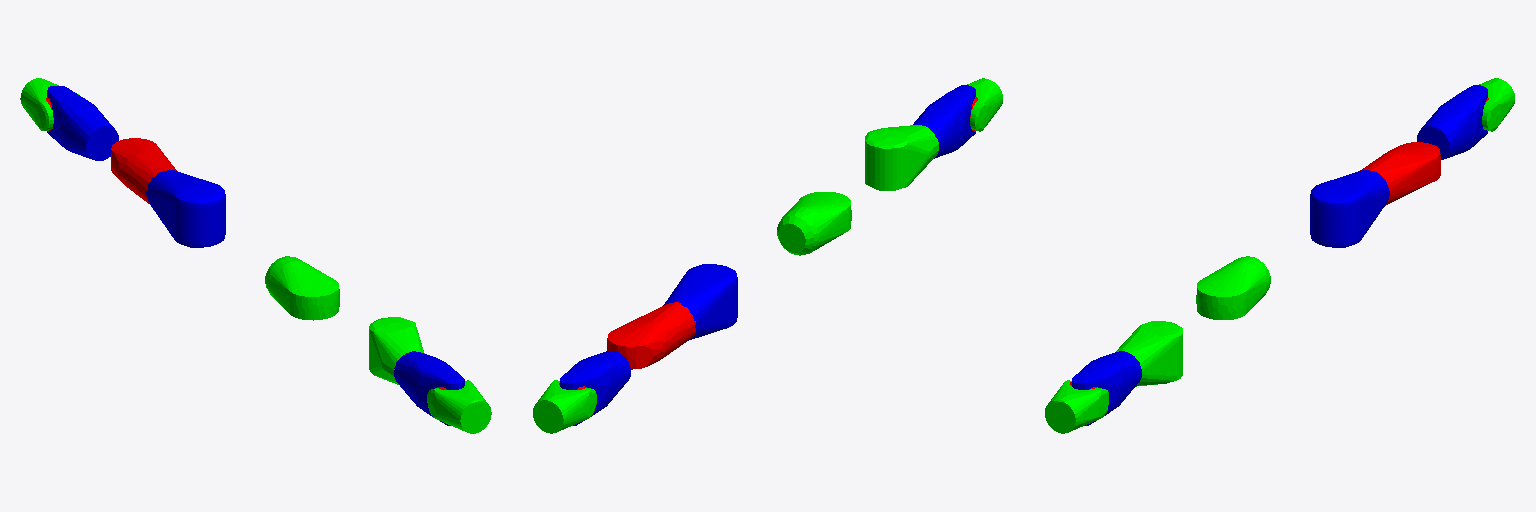
robot.urdf — nimo_arms:
<?xml version="1.0" encoding="utf-8"?>
<!-- Adapted from tj_control Marvin_M3S_CCS_615 dual-arm URDF (M3-S-CCS-615 on M6 stand). -->
<!-- TCP_Link_L/R kept for IK; meshes vendored under nimo_arm_description/meshes. -->
<robot name="nimo_arms">
  <link name="base_footprint"/>
  <joint name="base_footprint_joint" type="fixed">
    <parent link="base_footprint"/>
    <child link="Link_Base"/>
    <origin xyz="0 0 0" rpy="0 0 0"/>
  </joint>
  <link name="Link_Base">
    <inertial>
      <origin xyz="0 1.33E-06 0.1597" rpy="0 0 0" />
      <mass value="74.515" />
      <inertia ixx="8.67491803" ixy="0.07182226" ixz="0" iyy="8.67495749" iyz="0.00008096" izz="4.32871357" />
    </inertial>
    <visual>
      <origin xyz="0 0 0" rpy="0 0 0" />
      <geometry>
        <mesh filename="package://nimo_arm_description/meshes/Link_Base.STL" />
      </geometry>
      <material name="">
        <color rgba="0 1 0 1" />
      </material>
    </visual>
    <collision>
      <origin xyz="0 0 0" rpy="0 0 0" />
      <geometry>
        <mesh filename="package://nimo_arm_description/meshes/Link_Base.STL" />
      </geometry>
    </collision>
  </link>
  <link name="Link_Stand">
    <inertial>
      <origin xyz="1.321E-05 -4.225E-05 0.06485" rpy="0 0 0" />
      <mass value="3.52" />
      <inertia ixx="0.01763033" ixy="-0.00000075" ixz="0.00000045" iyy="0.02001856" iyz="7.41E-06" izz="0.01060882" />
    </inertial>
    <visual>
      <origin xyz="0 0 0" rpy="0 0 0" />
      <geometry>
        <mesh filename="package://nimo_arm_description/meshes/Link_Stand.STL" />
      </geometry>
      <material name="">
        <color rgba="0 0 1 1" />
      </material>
    </visual>
    <collision>
      <origin xyz="0 0 0" rpy="0 0 0" />
      <geometry>
        <mesh filename="package://nimo_arm_description/meshes/Link_Stand.STL" />
      </geometry>
    </collision>
  </link>
  <joint name="Joint_Stand" type="fixed">
    <origin xyz="0 0 0.981" rpy="0 0 0" />
    <parent link="Link_Base" />
    <child link="Link_Stand" />
    <axis xyz="0 0 0" />
  </joint>
  <joint name="Joint0_L" type="fixed">
    <origin xyz="0 0.037 0.140" rpy="-1.5707963267948966 0 0" />
    <parent link="Link_Stand" />
    <child link="Base_L" />
    <axis xyz="0 0 0" />
  </joint>
  <link name="Base_L">
    <inertial>
      <origin xyz="0.00026267 0.00011932 0.03306285" rpy="0 0 0" />
      <mass value="1.03862143" />
      <inertia ixx="0.00071755" ixy="0.00000006" ixz="-0.00000688" iyy="0.00071148" iyz="-0.00000335" izz="0.00091518" />
    </inertial>
    <visual>
      <origin xyz="0 0 0" rpy="0 0 0" />
      <geometry>
        <mesh filename="package://nimo_arm_description/meshes/Base_L.STL" />
      </geometry>
      <material name="">
        <color rgba="1 0 0 1" />
      </material>
    </visual>
    <collision>
      <origin xyz="0 0 0" rpy="0 0 0" />
      <geometry>
        <mesh filename="package://nimo_arm_description/meshes/Base_L.STL" />
      </geometry>
    </collision>
  </link>
  <link name="Link1_L">
    <inertial>
      <origin xyz="0.00005324 0.00445236 -0.03913569" rpy="0 0 0" />
      <mass value="1.77724008" />
      <inertia ixx="0.00530846" ixy="0.00000240" ixz="-0.00000211" iyy="0.00555862" iyz="0.00029899" izz="0.00133520" />
    </inertial>
    <visual>
      <origin xyz="0 0 0" rpy="0 0 0" />
      <geometry>
        <mesh filename="package://nimo_arm_description/meshes/Link1_L.STL" />
      </geometry>
      <material name="">
        <color rgba="0 1 0 1" />
      </material>
    </visual>
    <collision>
      <origin xyz="0 0 0" rpy="0 0 0" />
      <geometry>
        <mesh filename="package://nimo_arm_description/meshes/collision/Link1_L.STL" />
      </geometry>
    </collision>
  </link>
  <joint name="Joint1_L" type="revolute">
    <origin xyz="0 0 0.177" rpy="0 0 0" />
    <parent link="Base_L" />
    <child link="Link1_L" />
    <axis xyz="0 0 1" />
    <limit lower="-3.106686068549907" upper="3.106686068549907" effort="66" velocity="3.141592653589793" />
  </joint>
  <link name="Link2_L">
    <inertial>
      <origin xyz="-0.00010498 0.05321718 0.00787641" rpy="0 0 0" />
      <mass value="1.60894018" />
      <inertia ixx="0.00632572" ixy="-0.00000592" ixz="0.00000084" iyy="0.00182184" iyz="-0.00069610" izz="0.00594120" />
    </inertial>
    <visual>
      <origin xyz="0 0 0" rpy="0 0 0" />
      <geometry>
        <mesh filename="package://nimo_arm_description/meshes/Link2_L.STL" />
      </geometry>
      <material name="">
        <color rgba="0 0 1 1" />
      </material>
    </visual>
    <collision>
      <origin xyz="0 0 0" rpy="0 0 0" />
      <geometry>
        <mesh filename="package://nimo_arm_description/meshes/collision/Link2_L.STL" />
      </geometry>
    </collision>
  </link>
  <joint name="Joint2_L" type="revolute">
    <origin xyz="0 0 0" rpy="1.5707963267948966 0 0" />
    <parent link="Link1_L" />
    <child link="Link2_L" />
    <axis xyz="0 0 1" />
    <limit lower="-2.0943951023931953" upper="2.0943951023931953" effort="66" velocity="3.141592653589793" />
  </joint>
  <link name="Link3_L">
    <inertial>
      <origin xyz="0.00810489 0.00245578 -0.05500367" rpy="0 0 0" />
      <mass value="1.27082930" />
      <inertia ixx="0.00491773" ixy="0.00003519" ixz="0.00058367" iyy="0.00519354" iyz="0.00017843" izz="0.00102662" />
    </inertial>
    <visual>
      <origin xyz="0 0 0" rpy="0 0 0" />
      <geometry>
        <mesh filename="package://nimo_arm_description/meshes/Link3_L.STL" />
      </geometry>
      <material name="">
        <color rgba="1 0 0 1" />
      </material>
    </visual>
    <collision>
      <origin xyz="0 0 0" rpy="0 0 0" />
      <geometry>
        <mesh filename="package://nimo_arm_description/meshes/collision/Link3_L.STL" />
      </geometry>
    </collision>
  </link>
  <joint name="Joint3_L" type="revolute">
    <origin xyz="0 0.272 0" rpy="-1.5707963267948966 0 0" />
    <parent link="Link2_L" />
    <child link="Link3_L" />
    <axis xyz="0 0 1" />
    <limit lower="-3.106686068549907" upper="3.106686068549907" effort="18" velocity="3.141592653589793" />
  </joint>
  <link name="Link4_L">
    <inertial>
      <origin xyz="0.00709286 -0.03304509 0.00893402" rpy="0 0 0" />
      <mass value="0.96124622" />
      <inertia ixx="0.00254980" ixy="-0.00032269" ixz="-0.00006345" iyy="0.00107965" iyz="0.00029545" izz="0.00235605" />
    </inertial>
    <visual>
      <origin xyz="0 0 0" rpy="0 0 0" />
      <geometry>
        <mesh filename="package://nimo_arm_description/meshes/Link4_L.STL" />
      </geometry>
      <material name="">
        <color rgba="0 1 0 1" />
      </material>
    </visual>
    <collision>
      <origin xyz="0 0 0" rpy="0 0 0" />
      <geometry>
        <mesh filename="package://nimo_arm_description/meshes/collision/Link4_L.STL" />
      </geometry>
    </collision>
  </link>
  <joint name="Joint4_L" type="revolute">
    <origin xyz="0.018 0 0" rpy="-1.5707963267948966 0 3.141592653589793" />
    <parent link="Link3_L" />
    <child link="Link4_L" />
    <axis xyz="0 0 1" />
    <limit lower="-2.5307274153917776" upper="1.0471975511965976" effort="18" velocity="3.141592653589793" />
  </joint>
  <link name="Link5_L">
    <inertial>
      <origin xyz="-0.00062313 0.00098400 -0.09276174" rpy="0 0 0" />
      <mass value="0.90217469" />
      <inertia ixx="0.00189248" ixy="-0.00001906" ixz="-0.00002190" iyy="0.00174389" iyz="-0.00000835" izz="0.00075080" />
    </inertial>
    <visual>
      <origin xyz="0 0 0" rpy="0 0 0" />
      <geometry>
        <mesh filename="package://nimo_arm_description/meshes/Link5_L.STL" />
      </geometry>
      <material name="">
        <color rgba="0 0 1 1" />
      </material>
    </visual>
    <collision>
      <origin xyz="0 0 0" rpy="0 0 0" />
      <geometry>
        <mesh filename="package://nimo_arm_description/meshes/collision/Link5_L.STL" />
      </geometry>
    </collision>
  </link>
  <joint name="Joint5_L" type="revolute">
    <origin xyz="0.018 -0.256 0" rpy="-1.5707963267948966 0 3.141592653589793" />
    <parent link="Link4_L" />
    <child link="Link5_L" />
    <axis xyz="0 0 1" />
    <limit lower="-3.106686068549907" upper="3.106686068549907" effort="6.5" velocity="3.141592653589793" />
  </joint>
  <link name="Link6_L">
    <inertial>
      <origin xyz="0.00031369 0.00024238 -0.00041391" rpy="0 0 0" />
      <mass value="0.33261055" />
      <inertia ixx="0.00015388" ixy="0.00000140" ixz="-0.00000029" iyy="0.00015258" iyz="-0.00000262" izz="0.00013812" />
    </inertial>
    <visual>
      <origin xyz="0 0 0" rpy="0 0 0" />
      <geometry>
        <mesh filename="package://nimo_arm_description/meshes/Link6_L.STL" />
      </geometry>
      <material name="">
        <color rgba="1 0 0 1" />
      </material>
    </visual>
    <collision>
      <origin xyz="0 0 0" rpy="0 0 0" />
      <geometry>
        <mesh filename="package://nimo_arm_description/meshes/collision/Link6_L.STL" />
      </geometry>
    </collision>
  </link>
  <joint name="Joint6_L" type="revolute">
    <origin xyz="0 0 0" rpy="1.5707963267948966 -1.5707963267948966 0" />
    <parent link="Link5_L" />
    <child link="Link6_L" />
    <axis xyz="0 0 1" />
    <limit lower="-1.0471975511965976" upper="1.0471975511965976" effort="6.5" velocity="3.141592653589793" />
  </joint>
  <link name="Link7_L">
    <inertial>
      <origin xyz="-0.00006959 -0.03969936 0.00413997" rpy="0 0 0" />
      <mass value="0.30535389" />
      <inertia ixx="0.00058153" ixy="-0.00000009" ixz="-0.00000084" iyy="0.00026536" iyz="0.00005594" izz="0.00048333" />
    </inertial>
    <visual>
      <origin xyz="0 0 0" rpy="0 0 0" />
      <geometry>
        <mesh filename="package://nimo_arm_description/meshes/Link7_L.STL" />
      </geometry>
      <material name="">
        <color rgba="0 1 0 1" />
      </material>
    </visual>
    <collision>
      <origin xyz="0 0 0" rpy="0 0 0" />
      <geometry>
        <mesh filename="package://nimo_arm_description/meshes/collision/Link7_L.STL" />
      </geometry>
    </collision>
  </link>
  <joint name="Joint7_L" type="revolute">
    <origin xyz="0 0 0" rpy="1.5707963267948966 -1.5707963267948966 0" />
    <parent link="Link6_L" />
    <child link="Link7_L" />
    <axis xyz="0 0 1" />
    <limit lower="-1.5707963267948966" upper="1.5707963267948966" effort="6.5" velocity="3.141592653589793" />
  </joint>
  <link name="TCP_Link_L">
    <inertial>
      <origin xyz="0 0 0" rpy="0 0 0" />
      <mass value="0" />
      <inertia ixx="0" ixy="0" ixz="0" iyy="0" iyz="0" izz="0" />
    </inertial>
  </link>
  <joint name="JointTCP_L" type="fixed">
    <origin xyz="0 -0.087 0" rpy="1.5707963267948966 -1.5707963267948966 0" />
    <parent link="Link7_L" />
    <child link="TCP_Link_L" />
    <axis xyz="0 0 0" />
  </joint>
  <joint name="Joint0_R" type="fixed">
    <origin xyz="0 -0.037 0.140" rpy="1.5707963267948966 0 0" />
    <parent link="Link_Stand" />
    <child link="Base_R" />
    <axis xyz="0 0 0" />
  </joint>
  <link name="Base_R">
    <inertial>
      <origin xyz="0.00026267 0.00011932 0.03306285" rpy="0 0 0" />
      <mass value="1.03862143" />
      <inertia ixx="0.00071755" ixy="0.00000006" ixz="-0.00000688" iyy="0.00071148" iyz="-0.00000335" izz="0.00091518" />
    </inertial>
    <visual>
      <origin xyz="0 0 0" rpy="0 0 0" />
      <geometry>
        <mesh filename="package://nimo_arm_description/meshes/Base_R.STL" />
      </geometry>
      <material name="">
        <color rgba="1 0 0 1" />
      </material>
    </visual>
    <collision>
      <origin xyz="0 0 0" rpy="0 0 0" />
      <geometry>
        <mesh filename="package://nimo_arm_description/meshes/Base_R.STL" />
      </geometry>
    </collision>
  </link>
  <link name="Link1_R">
    <inertial>
      <origin xyz="0.00005324 0.00445236 -0.03913569" rpy="0 0 0" />
      <mass value="1.77724008" />
      <inertia ixx="0.00530846" ixy="0.00000240" ixz="-0.00000211" iyy="0.00555862" iyz="0.00029899" izz="0.00133520" />
    </inertial>
    <visual>
      <origin xyz="0 0 0" rpy="0 0 0" />
      <geometry>
        <mesh filename="package://nimo_arm_description/meshes/Link1_R.STL" />
      </geometry>
      <material name="">
        <color rgba="0 1 0 1" />
      </material>
    </visual>
    <collision>
      <origin xyz="0 0 0" rpy="0 0 0" />
      <geometry>
        <mesh filename="package://nimo_arm_description/meshes/collision/Link1_R.STL" />
      </geometry>
    </collision>
  </link>
  <joint name="Joint1_R" type="revolute">
    <origin xyz="0 0 0.177" rpy="0 0 0" />
    <parent link="Base_R" />
    <child link="Link1_R" />
    <axis xyz="0 0 1" />
    <limit lower="-3.106686068549907" upper="3.106686068549907" effort="66" velocity="3.141592653589793" />
  </joint>
  <link name="Link2_R">
    <inertial>
      <origin xyz="-0.00010498 0.05321718 0.00787641" rpy="0 0 0" />
      <mass value="1.60894018" />
      <inertia ixx="0.00632572" ixy="-0.00000592" ixz="0.00000084" iyy="0.00182184" iyz="-0.00069610" izz="0.00594120" />
    </inertial>
    <visual>
      <origin xyz="0 0 0" rpy="0 0 0" />
      <geometry>
        <mesh filename="package://nimo_arm_description/meshes/Link2_R.STL" />
      </geometry>
      <material name="">
        <color rgba="0 0 1 1" />
      </material>
    </visual>
    <collision>
      <origin xyz="0 0 0" rpy="0 0 0" />
      <geometry>
        <mesh filename="package://nimo_arm_description/meshes/collision/Link2_R.STL" />
      </geometry>
    </collision>
  </link>
  <joint name="Joint2_R" type="revolute">
    <origin xyz="0 0 0" rpy="1.5707963267948966 0 0" />
    <parent link="Link1_R" />
    <child link="Link2_R" />
    <axis xyz="0 0 1" />
    <limit lower="-2.0943951023931953" upper="2.0943951023931953" effort="66" velocity="3.141592653589793" />
  </joint>
  <link name="Link3_R">
    <inertial>
      <origin xyz="0.00810489 0.00245578 -0.05500367" rpy="0 0 0" />
      <mass value="1.27082930" />
      <inertia ixx="0.00491773" ixy="0.00003519" ixz="0.00058367" iyy="0.00519354" iyz="0.00017843" izz="0.00102662" />
    </inertial>
    <visual>
      <origin xyz="0 0 0" rpy="0 0 0" />
      <geometry>
        <mesh filename="package://nimo_arm_description/meshes/Link3_R.STL" />
      </geometry>
      <material name="">
        <color rgba="1 0 0 1" />
      </material>
    </visual>
    <collision>
      <origin xyz="0 0 0" rpy="0 0 0" />
      <geometry>
        <mesh filename="package://nimo_arm_description/meshes/collision/Link3_R.STL" />
      </geometry>
    </collision>
  </link>
  <joint name="Joint3_R" type="revolute">
    <origin xyz="0 0.272 0" rpy="-1.5707963267948966 0 0" />
    <parent link="Link2_R" />
    <child link="Link3_R" />
    <axis xyz="0 0 1" />
    <limit lower="-3.106686068549907" upper="3.106686068549907" effort="18" velocity="3.141592653589793" />
  </joint>
  <link name="Link4_R">
    <inertial>
      <origin xyz="0.00709286 -0.03304509 0.00893402" rpy="0 0 0" />
      <mass value="0.96124622" />
      <inertia ixx="0.00254980" ixy="-0.00032269" ixz="-0.00006345" iyy="0.00107965" iyz="0.00029545" izz="0.00235605" />
    </inertial>
    <visual>
      <origin xyz="0 0 0" rpy="0 0 0" />
      <geometry>
        <mesh filename="package://nimo_arm_description/meshes/Link4_R.STL" />
      </geometry>
      <material name="">
        <color rgba="0 1 0 1" />
      </material>
    </visual>
    <collision>
      <origin xyz="0 0 0" rpy="0 0 0" />
      <geometry>
        <mesh filename="package://nimo_arm_description/meshes/collision/Link4_R.STL" />
      </geometry>
    </collision>
  </link>
  <joint name="Joint4_R" type="revolute">
    <origin xyz="0.018 0 0" rpy="-1.5707963267948966 0 3.141592653589793" />
    <parent link="Link3_R" />
    <child link="Link4_R" />
    <axis xyz="0 0 1" />
    <limit lower="-2.5307274153917776" upper="1.0471975511965976" effort="18" velocity="3.141592653589793" />
  </joint>
  <link name="Link5_R">
    <inertial>
      <origin xyz="0.00062313 -0.00098400 -0.09276174" rpy="0 0 0" />
      <mass value="0.90217469" />
      <inertia ixx="0.00189248" ixy="-0.00001906" ixz="0.00002190" iyy="0.00174389" iyz="0.00000835" izz="0.00075080" />
    </inertial>
    <visual>
      <origin xyz="0 0 0" rpy="0 0 0" />
      <geometry>
        <mesh filename="package://nimo_arm_description/meshes/Link5_R.STL" />
      </geometry>
      <material name="">
        <color rgba="0 0 1 1" />
      </material>
    </visual>
    <collision>
      <origin xyz="0 0 0" rpy="0 0 0" />
      <geometry>
        <mesh filename="package://nimo_arm_description/meshes/collision/Link5_R.STL" />
      </geometry>
    </collision>
  </link>
  <joint name="Joint5_R" type="revolute">
    <origin xyz="0.018 -0.256 0" rpy="-1.5707963267948966 0 3.141592653589793" />
    <parent link="Link4_R" />
    <child link="Link5_R" />
    <axis xyz="0 0 1" />
    <limit lower="-3.106686068549907" upper="3.106686068549907" effort="6.5" velocity="3.141592653589793" />
  </joint>
  <link name="Link6_R">
    <inertial>
      <origin xyz="-0.00031369 0.00024238 0.00041391" rpy="0 0 0" />
      <mass value="0.33261055" />
      <inertia ixx="0.00015479" ixy="-0.00000140" ixz="-0.00000029" iyy="0.00015429" iyz="-0.00000262" izz="0.00013902" />
    </inertial>
    <visual>
      <origin xyz="0 0 0" rpy="0 0 0" />
      <geometry>
        <mesh filename="package://nimo_arm_description/meshes/Link6_R.STL" />
      </geometry>
      <material name="">
        <color rgba="1 0 0 1" />
      </material>
    </visual>
    <collision>
      <origin xyz="0 0 0" rpy="0 0 0" />
      <geometry>
        <mesh filename="package://nimo_arm_description/meshes/collision/Link6_R.STL" />
      </geometry>
    </collision>
  </link>
  <joint name="Joint6_R" type="revolute">
    <origin xyz="0 0 0" rpy="1.5707963267948966 -1.5707963267948966 0" />
    <parent link="Link5_R" />
    <child link="Link6_R" />
    <axis xyz="0 0 1" />
    <limit lower="-1.0471975511965976" upper="1.0471975511965976" effort="6.5" velocity="3.141592653589793" />
  </joint>
  <link name="Link7_R">
    <inertial>
      <origin xyz="-0.00006959 -0.03969936 0.00413997" rpy="0 0 0" />
      <mass value="0.30535389" />
      <inertia ixx="0.00058153" ixy="-0.00000009" ixz="-0.00000084" iyy="0.00026536" iyz="0.00005594" izz="0.00048333" />
    </inertial>
    <visual>
      <origin xyz="0 0 0" rpy="0 0 0" />
      <geometry>
        <mesh filename="package://nimo_arm_description/meshes/Link7_R.STL" />
      </geometry>
      <material name="">
        <color rgba="0 1 0 1" />
      </material>
    </visual>
    <collision>
      <origin xyz="0 0 0" rpy="0 0 0" />
      <geometry>
        <mesh filename="package://nimo_arm_description/meshes/collision/Link7_R.STL" />
      </geometry>
    </collision>
  </link>
  <joint name="Joint7_R" type="revolute">
    <origin xyz="0 0 0" rpy="1.5707963267948966 -1.5707963267948966 0" />
    <parent link="Link6_R" />
    <child link="Link7_R" />
    <axis xyz="0 0 1" />
    <limit lower="-1.5707963267948966" upper="1.5707963267948966" effort="6.5" velocity="3.141592653589793" />
  </joint>
  <link name="TCP_Link_R">
    <inertial>
      <origin xyz="0 0 0" rpy="0 0 0" />
      <mass value="0" />
      <inertia ixx="0" ixy="0" ixz="0" iyy="0" iyz="0" izz="0" />
    </inertial>
  </link>
  <joint name="JointTCP_R" type="fixed">
    <origin xyz="0 -0.087 0" rpy="1.5707963267948966 -1.5707963267948966 0" />
    <parent link="Link7_R" />
    <child link="TCP_Link_R" />
    <axis xyz="0 0 0" />
  </joint>
</robot>

--- Facts derived from the render (not from the file) ---
The picture shows the robot from 3 angles, left to right: view 1: azimuth 30°, elevation 25°; view 2: azimuth 150°, elevation 25°; view 3: azimuth 330°, elevation 25°; orthographic projection.
Model nimo_arms with 21 links and 20 joints (14 revolute, 6 fixed), rooted at base_footprint, posed every joint at zero.
Links seen in each view (by area): view 1: Link2_L, Link1_R, Link5_L, Link4_R, Link3_L, Link5_R, Link7_R, Link7_L; view 2: Link4_R, Link3_L, Link2_L, Link1_R, Link5_R, Link5_L, Link7_L, Link7_R; view 3: Link2_L, Link1_R, Link5_L, Link4_R, Link3_L, Link5_R, Link7_R, Link7_L.
Boxes of the visible links, x1,y1,x2,y2 form: Link2_L: (146,169,225,247); Link1_R: (265,256,339,320); Link5_L: (47,86,118,160); Link4_R: (369,317,424,384); Link3_L: (111,138,176,203); Link5_R: (394,351,464,425); Link7_R: (427,380,491,433); Link7_L: (20,78,78,130); Link4_R: (865,125,938,190); Link3_L: (607,302,695,369); Link2_L: (663,264,737,340); Link1_R: (777,192,851,255); Link5_R: (913,85,975,158); Link5_L: (560,351,630,425); Link7_L: (533,380,596,433); Link7_R: (946,78,1002,131); Link2_L: (1310,170,1389,247); Link1_R: (1196,256,1270,319); Link5_L: (1417,85,1487,159); Link4_R: (1116,321,1182,386); Link3_L: (1360,142,1440,205); Link5_R: (1072,351,1141,425); Link7_R: (1045,380,1108,433); Link7_L: (1457,78,1514,131).
Bounding box of the posed robot: 0.1143 × 1.66 × 0.105 m (x, y, z).
10 mesh visuals loaded from 18 distinct referenced files (10 binary STL); not drawn: 8 (reference not matched to a file when rendering).
